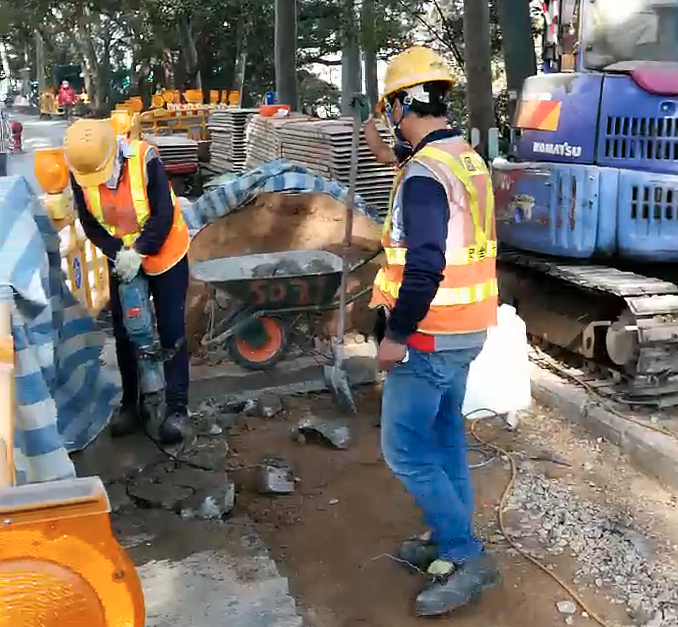Hard Hat: (381, 47, 453, 134), (63, 120, 125, 189)
Person: (374, 50, 498, 614), (68, 120, 195, 445)
Vest: (384, 110, 499, 336), (62, 143, 194, 274)
